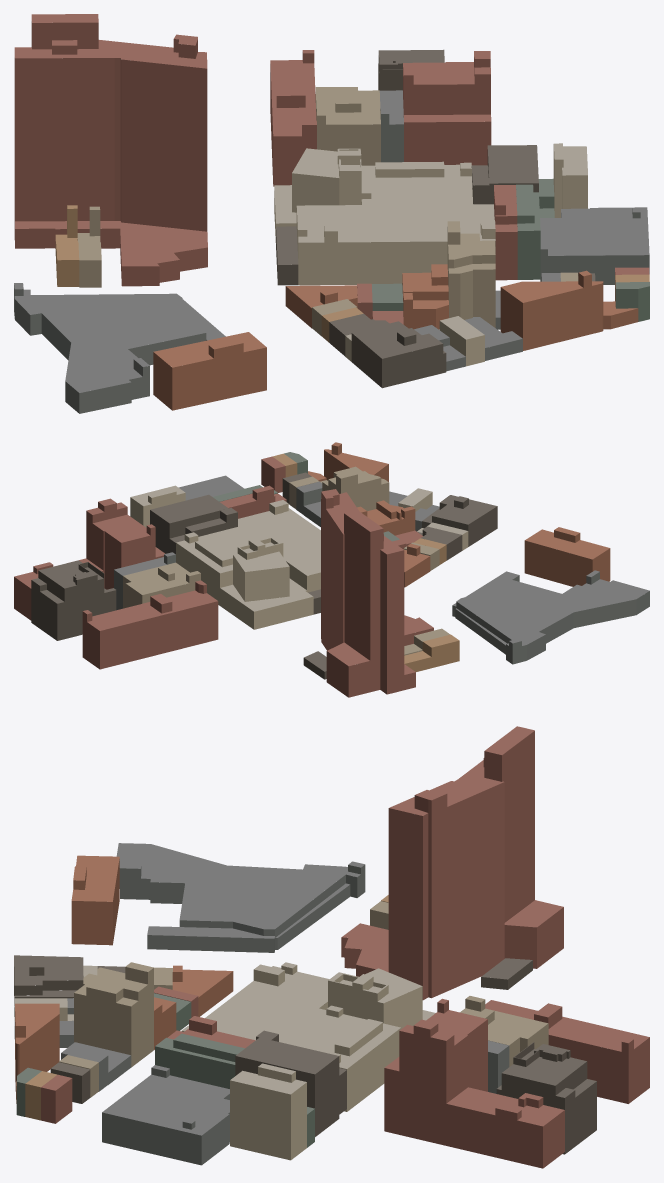
The model's file is tile--5_-6.glb.
3 renders of one model, top to bottom at view 1: azimuth 30°, elevation 25°; view 2: azimuth 150°, elevation 25°; view 3: azimuth 270°, elevation 25°, orthographic. The views are drawn at different scales.
Visible parts, largest first — view 1: wall, roof; view 2: wall, roof; view 3: wall, roof.
Part boxes in pixels (<box>): wall: <box>14,21,649,413</box>; roof: <box>14,14,649,392</box>; wall: <box>14,444,649,697</box>; roof: <box>14,442,649,674</box>; wall: <box>14,731,649,1168</box>; roof: <box>14,726,649,1135</box>.
Size of the model in its own units: 248 by 82.2 by 219.
